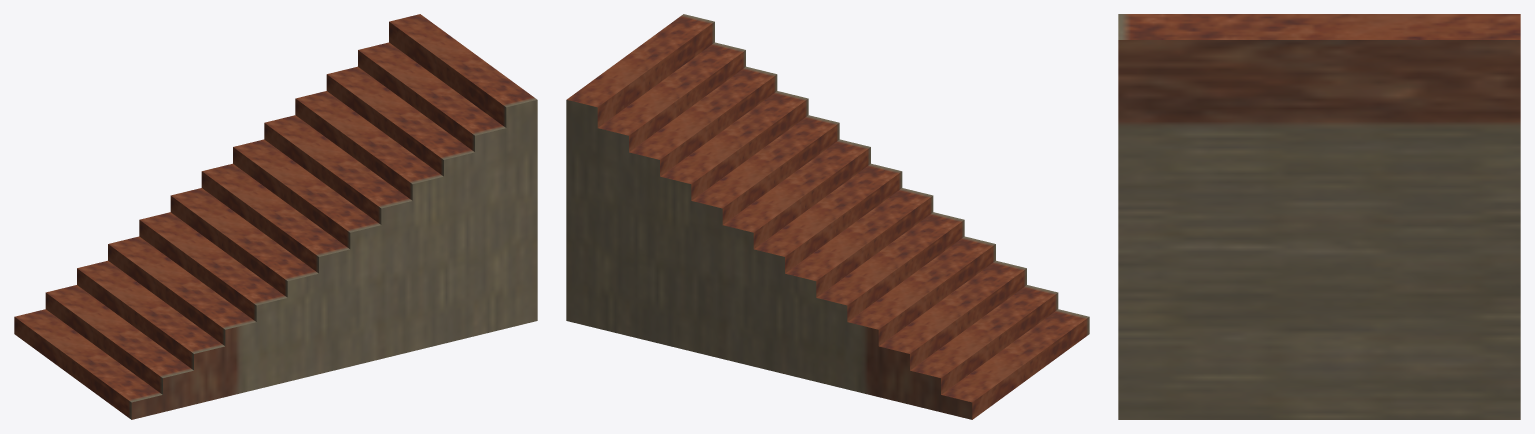
File: stairs.fbx
3 views of the same model, side by side, from view 1: azimuth 30°, elevation 25°; view 2: azimuth 150°, elevation 25°; view 3: azimuth 270°, elevation 25° (orthographic). The views are drawn at different scales.
Parts seen in each view (by area): view 1: Stairs__1_1; view 2: Stairs__1_1; view 3: Stairs__1_1.
Part boxes in pixels (x1,y1,x2,y2): Stairs__1_1: (14, 14, 537, 419); Stairs__1_1: (566, 14, 1089, 419); Stairs__1_1: (1118, 14, 1520, 419).
Bounding box in the file's own units: 400 × 208 × 200.
